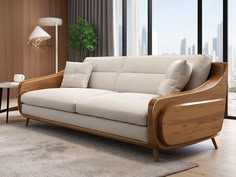backrest: (84, 55, 211, 94)
base: (23, 105, 149, 143)
leftarmrest: (150, 63, 226, 148)
leg: (23, 115, 159, 162), (211, 138, 217, 148)
pillow: (157, 60, 191, 94), (61, 62, 92, 87)
rightarmrest: (18, 70, 63, 112)
seat: (20, 88, 156, 125)
